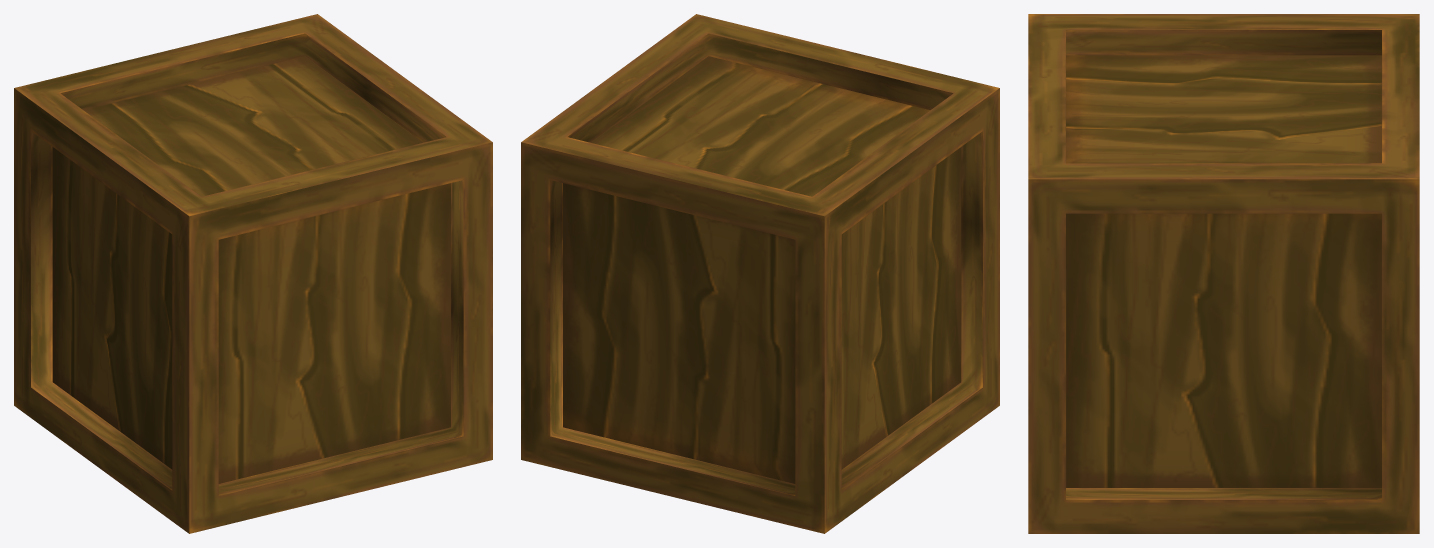
The model's file is Caja_Originales_Claro2.fbx.
The picture shows the model from 3 angles, left to right: view 1: azimuth 30°, elevation 25°; view 2: azimuth 150°, elevation 25°; view 3: azimuth 270°, elevation 25°; orthographic projection. The views are drawn at different scales.
Visible parts, largest first — view 1: Caja_Originales_Claro2; view 2: Caja_Originales_Claro2; view 3: Caja_Originales_Claro2.
Boxes of the visible parts, x1,y1,x2,y2 form: Caja_Originales_Claro2: (14, 14, 492, 533); Caja_Originales_Claro2: (521, 14, 999, 533); Caja_Originales_Claro2: (1028, 14, 1419, 533).
Bounding box in the file's own units: 68.2 × 68.2 × 68.2.
